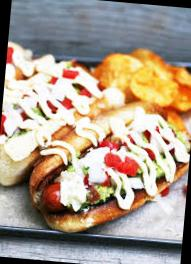Completos: (28, 91, 191, 241)
